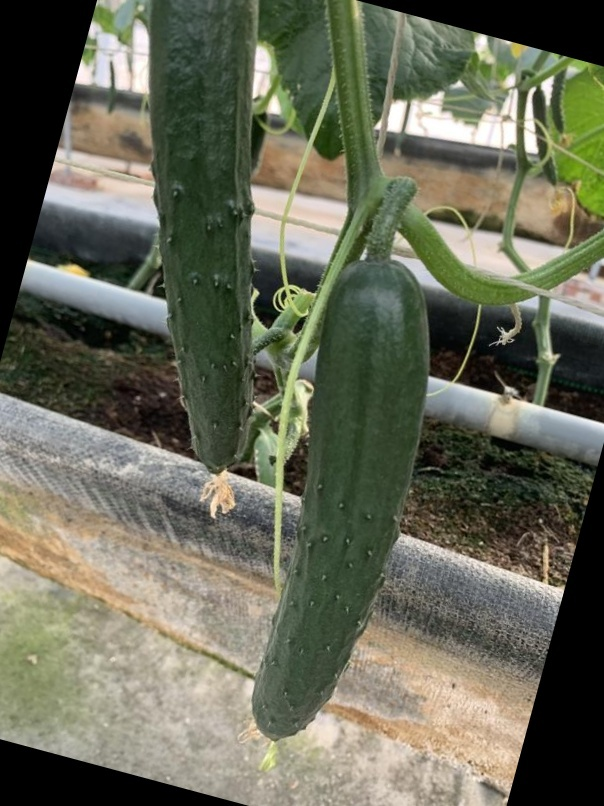mature: (254, 252, 438, 764), (144, 0, 267, 479)
